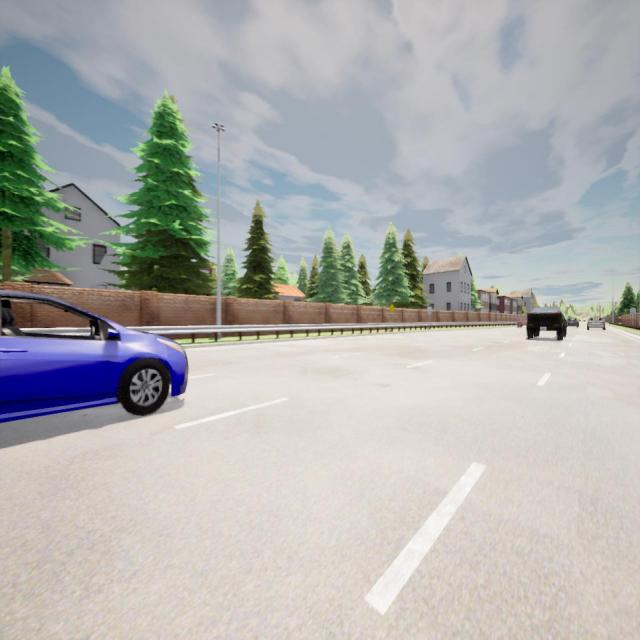Traffic_Signs: (426, 307, 433, 315), (389, 304, 395, 312), (630, 308, 636, 316)
Vehicle: (0, 291, 188, 422), (525, 307, 568, 341), (586, 316, 606, 330), (517, 316, 528, 327), (567, 317, 579, 327)
